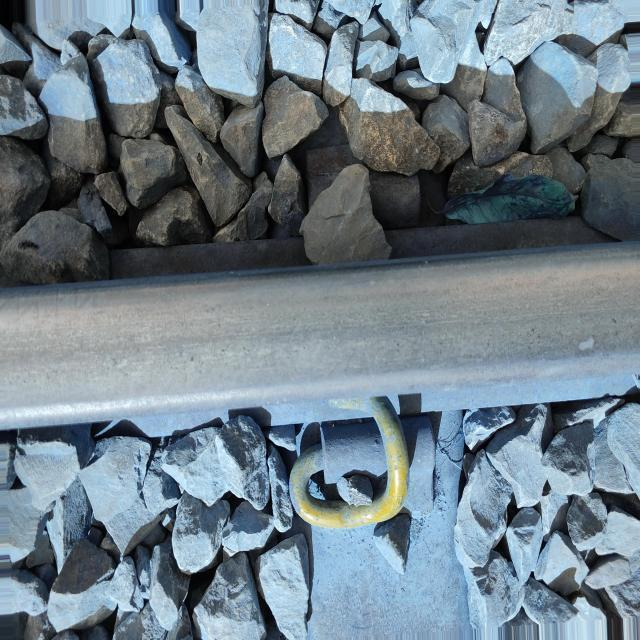Good Fasteners: (290, 397, 435, 528)
